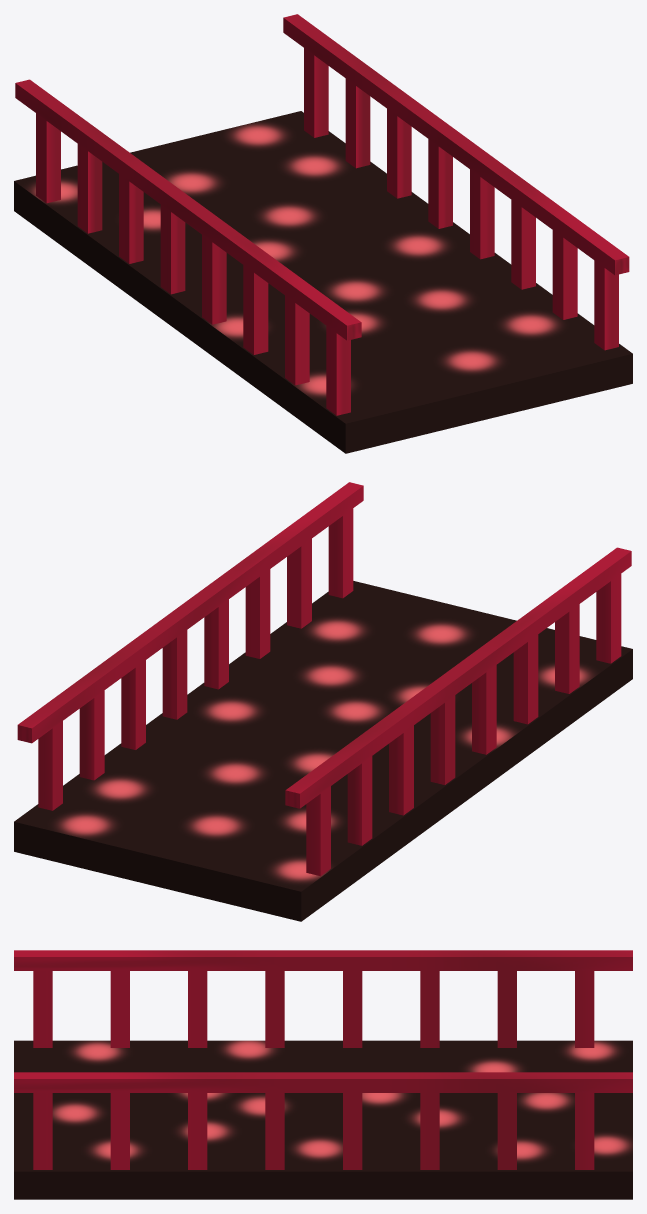
File: PathWayShort.fbx
The picture shows the model from 3 angles, top to bottom: view 1: azimuth 30°, elevation 25°; view 2: azimuth 150°, elevation 25°; view 3: azimuth 270°, elevation 25°; orthographic projection. The views are drawn at different scales.
Visible parts, largest first — view 1: Path, RailingL, RailingR; view 2: Path, RailingL, RailingR; view 3: Path, RailingL, RailingR.
Boxes of the visible parts, x1,y1,x2,y2 form: Path: [14, 111, 632, 453]; RailingL: [15, 79, 361, 415]; RailingR: [283, 14, 629, 350]; Path: [14, 581, 632, 921]; RailingL: [285, 547, 631, 876]; RailingR: [17, 482, 363, 810]; Path: [14, 1040, 632, 1199]; RailingL: [14, 950, 632, 1047]; RailingR: [14, 1072, 632, 1169].
Size of the model in its own units: 600 by 255 by 1200.
